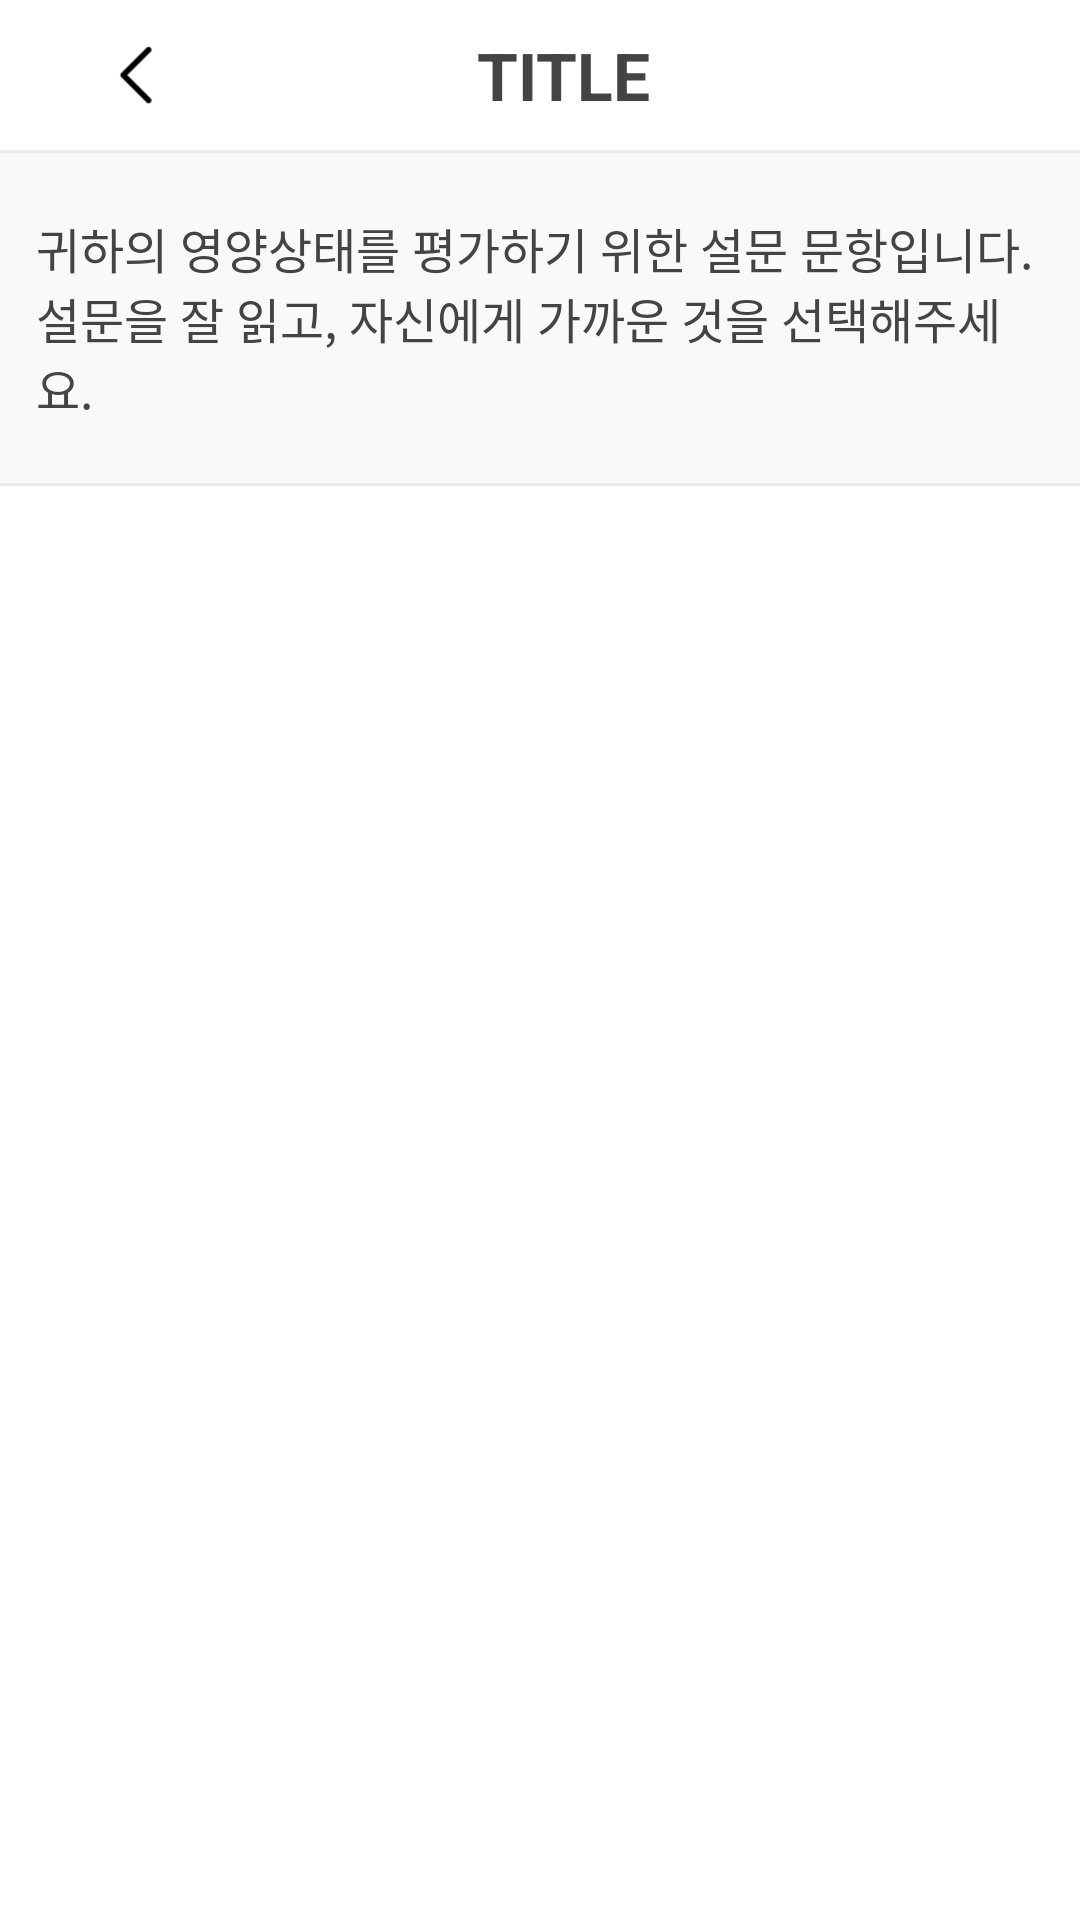

Named icons in this screenshot (1080w x 1920h) and their centers, [x,y]:
arrow left: [136,75]
